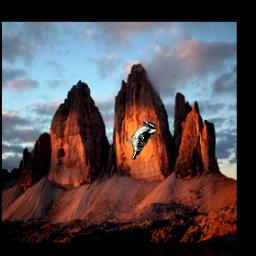Woodpecker: (121, 120, 157, 160)
